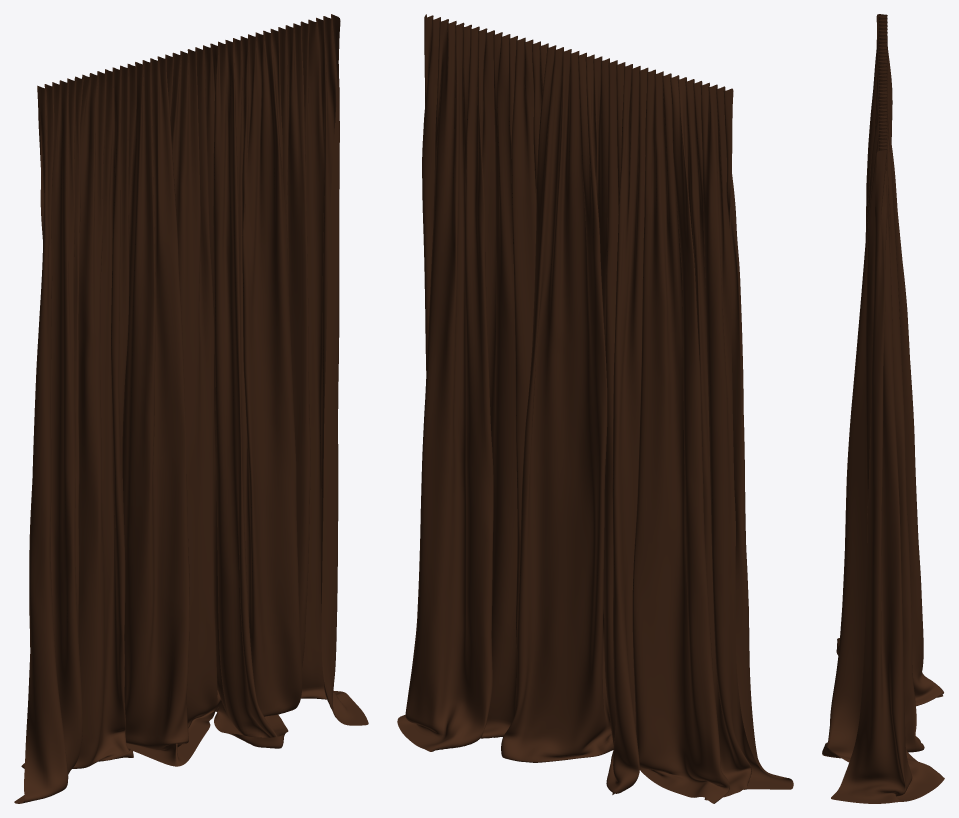
File: curtains8.glb
3 renders of one model, left to right at view 1: azimuth 30°, elevation 25°; view 2: azimuth 150°, elevation 25°; view 3: azimuth 270°, elevation 25°, orthographic. The views are drawn at different scales.
Parts seen in each view (by area): view 1: curtain_2; view 2: curtain_2; view 3: curtain_2.
Boxes of the visible parts, x1,y1,x2,y2 form: curtain_2: (14, 14, 368, 803); curtain_2: (397, 14, 793, 803); curtain_2: (822, 14, 944, 803).
Bounding box in the file's own units: 1.31 × 2.41 × 0.4146.
